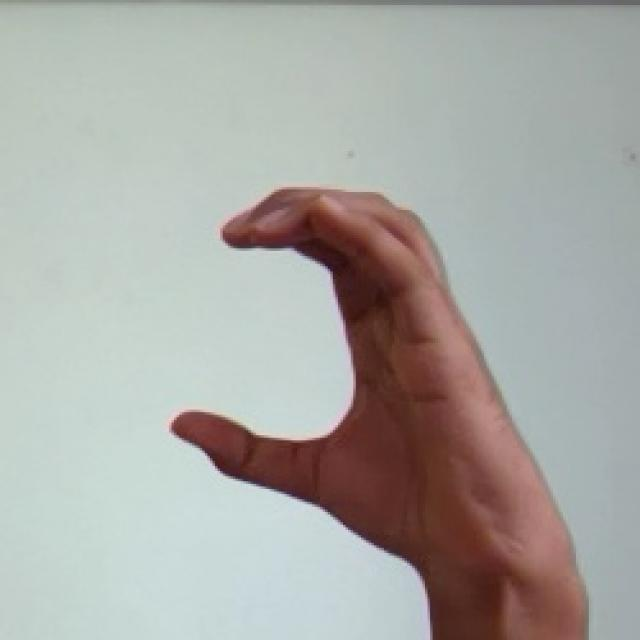Alphabet-C: (172, 189, 589, 640)
